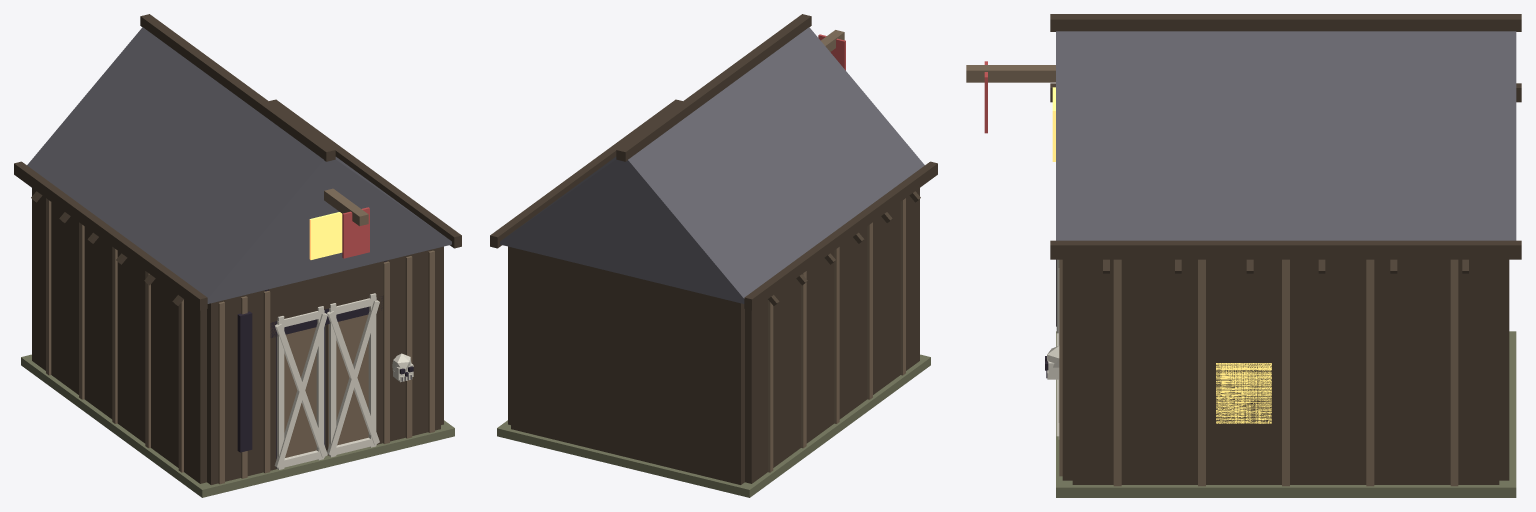
Rendered from creepy_barn.glb.
3 views of the same model, side by side, from view 1: azimuth 30°, elevation 25°; view 2: azimuth 150°, elevation 25°; view 3: azimuth 270°, elevation 25° (orthographic). The views are drawn at different scales.
Visible parts, largest first — view 1: creepy_barn; view 2: creepy_barn; view 3: creepy_barn.
Boxes of the visible parts, left/top/right/bottom form: creepy_barn: left=14, top=14, right=461, bottom=497; creepy_barn: left=490, top=14, right=937, bottom=497; creepy_barn: left=966, top=14, right=1521, bottom=497.
Bounding box in the file's own units: 3.52 × 3.96 × 4.95.
